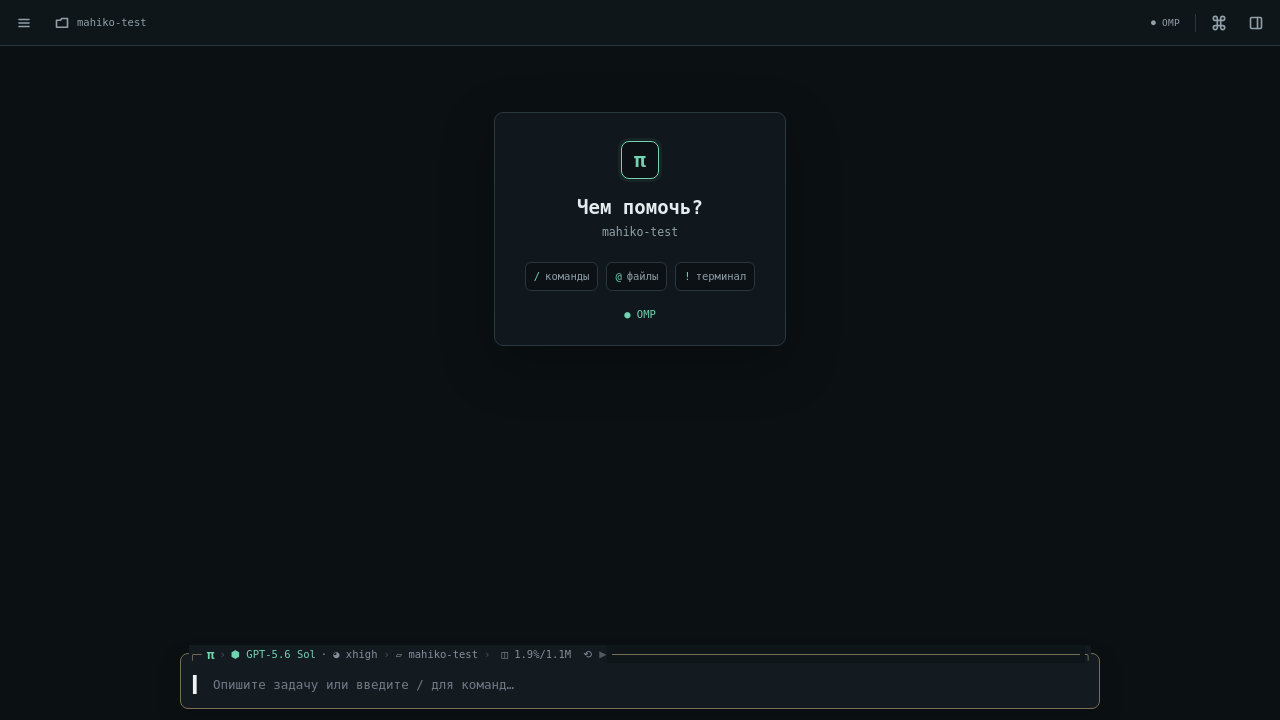
Test: оболочка mahiko › открывает только наблюдаемое состояние проекта и отключает неподдерживаемые поверхности
Expected: the heading "Чем помочь?" is shown, [577,195,703,220]
Step 1. Click the button named "Показать боковую панель" → [24, 22], box [8,7,40,38]
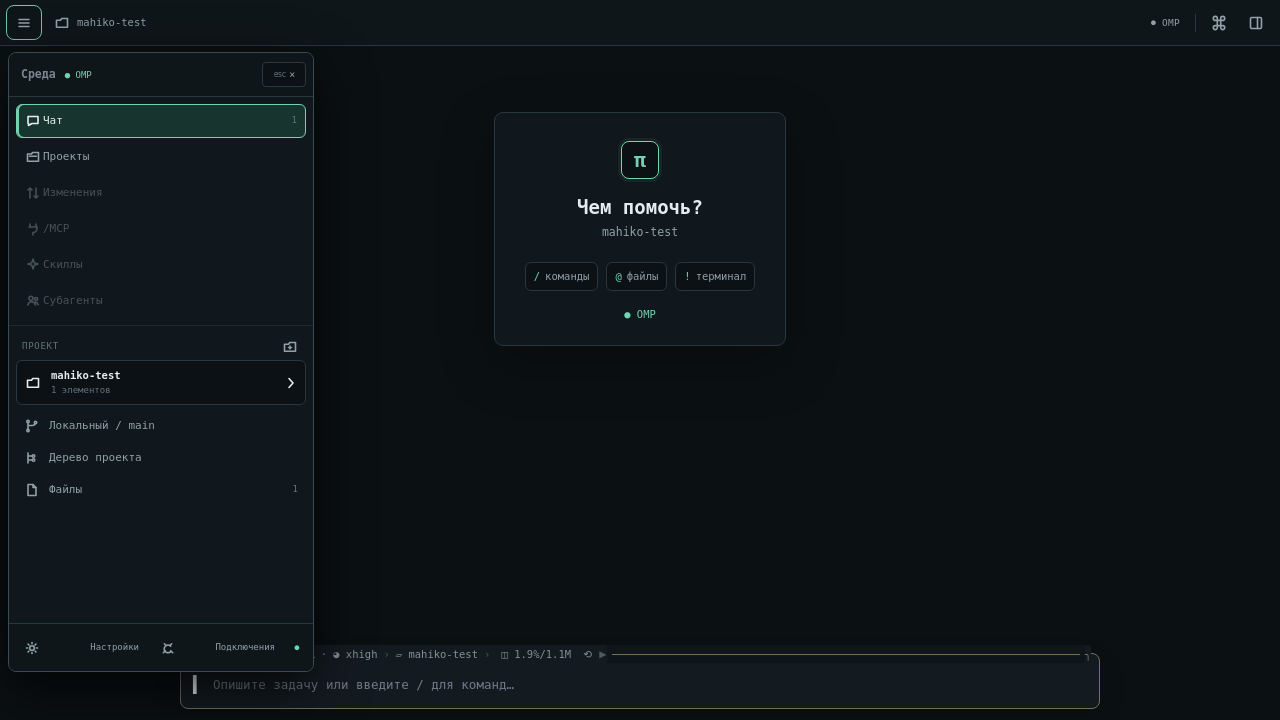
Expected: the button "Изменения" is disabled, [16,176,306,210]
Expected: the button "/MCP" is disabled, [16,212,306,246]
Expected: the button "Скиллы" is disabled, [16,248,306,282]
Step 2. Click the button "Проекты" → [66, 157], box [16,140,306,174]
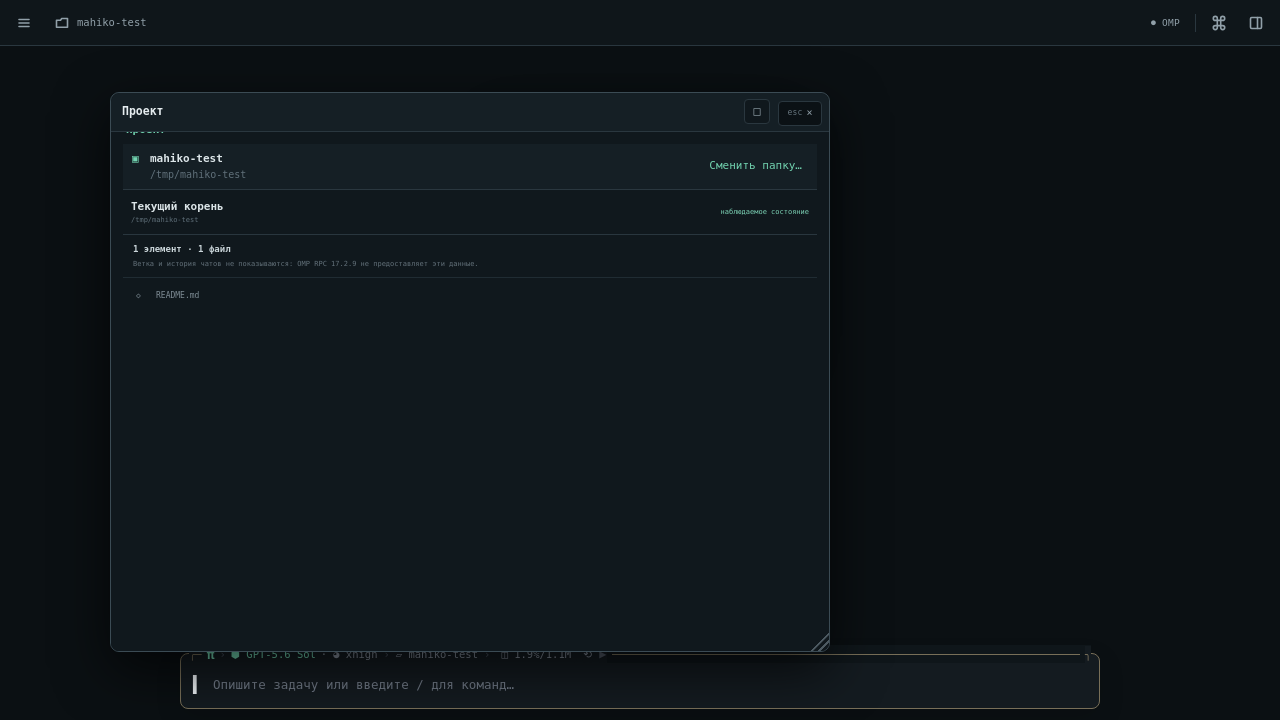
Expected: the 1st text "/tmp/mahiko-test" is shown, [150,168,246,182]
Expected: the text "OMP RPC 17.2.9 не предоставляет" is shown, [133,260,479,268]
